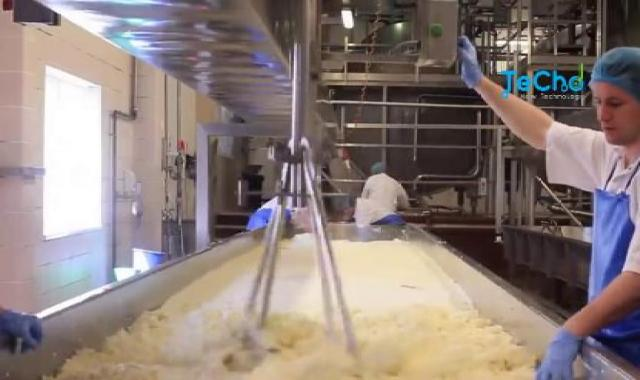hairnet: (575, 42, 640, 130), (370, 160, 396, 180)
